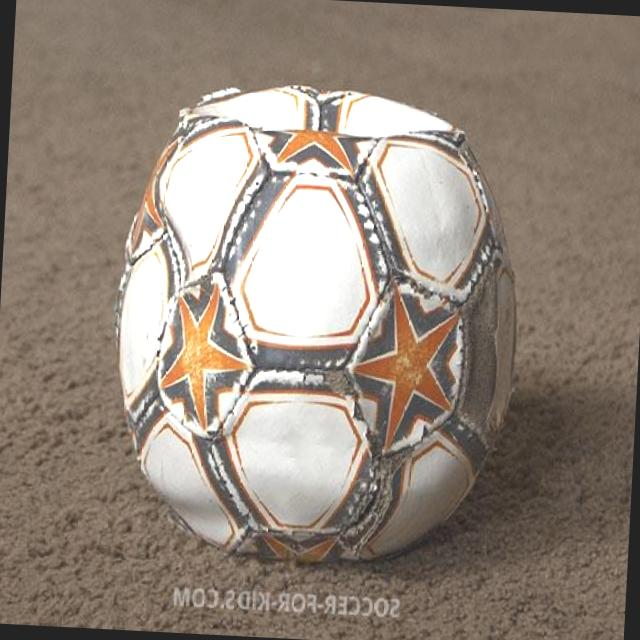Soccer Ball: (104, 77, 530, 570)
